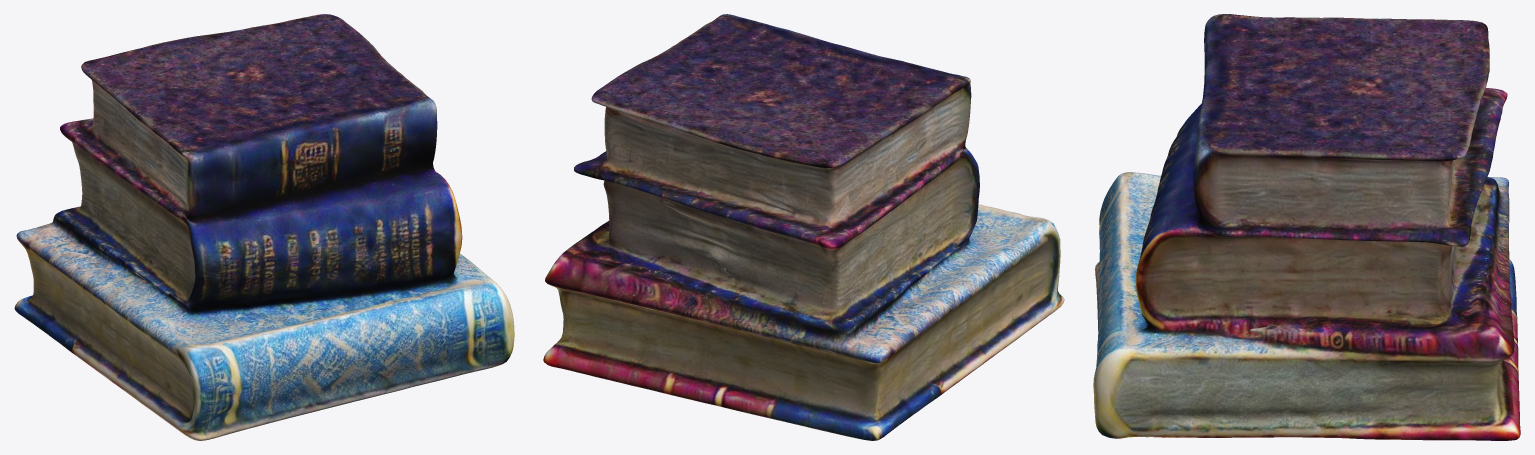
The model's file is pile_of_books (1).glb.
3 views of the same model, side by side, from view 1: azimuth 30°, elevation 25°; view 2: azimuth 150°, elevation 25°; view 3: azimuth 270°, elevation 25° (orthographic). The views are drawn at different scales.
Visible parts, largest first — view 1: model; view 2: model; view 3: model.
Boxes of the visible parts, x1,y1,x2,y2 form: model: (14, 14, 514, 440); model: (543, 14, 1064, 440); model: (1093, 14, 1520, 440).
Size of the model in its own units: 1.18 by 0.8484 by 1.18.
Materials: 1 (1 with a texture image).
